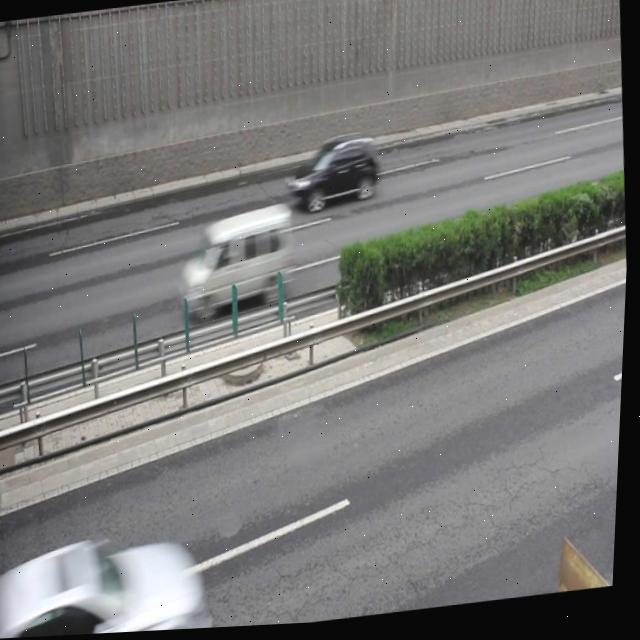car: (13, 525, 211, 639), (286, 132, 383, 217)
truck: (175, 204, 299, 322)
